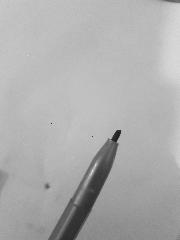plastic: (47, 129, 121, 239)
